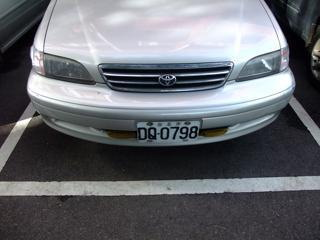plate: (134, 119, 201, 143)
